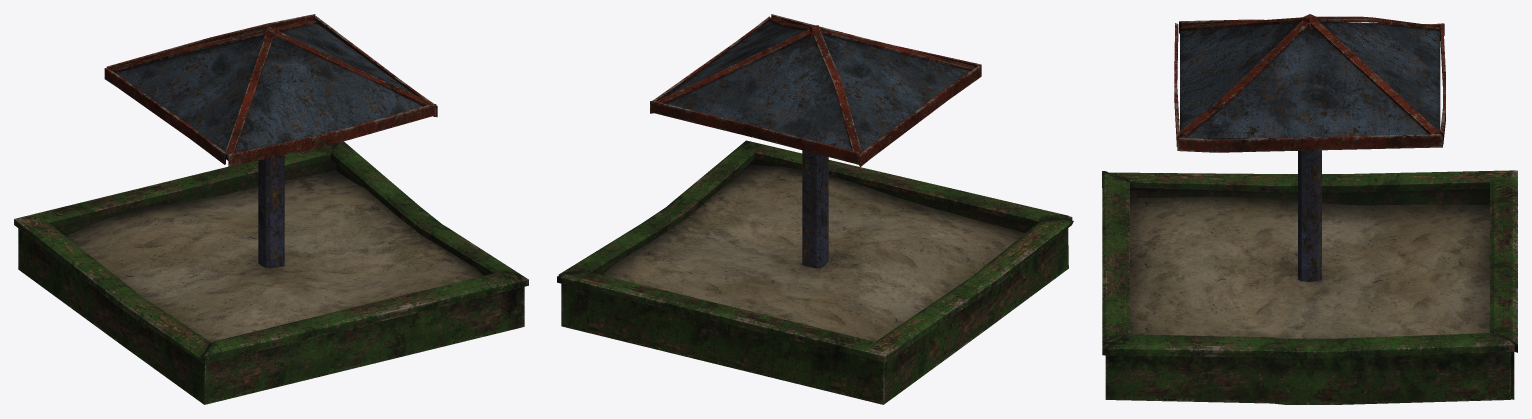
File: CPG_04.fbx
The picture shows the model from 3 angles, left to right: view 1: azimuth 30°, elevation 25°; view 2: azimuth 150°, elevation 25°; view 3: azimuth 270°, elevation 25°; orthographic projection. The views are drawn at different scales.
Parts seen in each view (by area): view 1: CPG_04; view 2: CPG_04; view 3: CPG_04.
Boxes of the visible parts, bbox=[...] form: CPG_04: bbox=[14, 14, 528, 404]; CPG_04: bbox=[557, 14, 1073, 404]; CPG_04: bbox=[1102, 14, 1517, 404].
Size of the model in its own units: 286 by 229 by 285.
